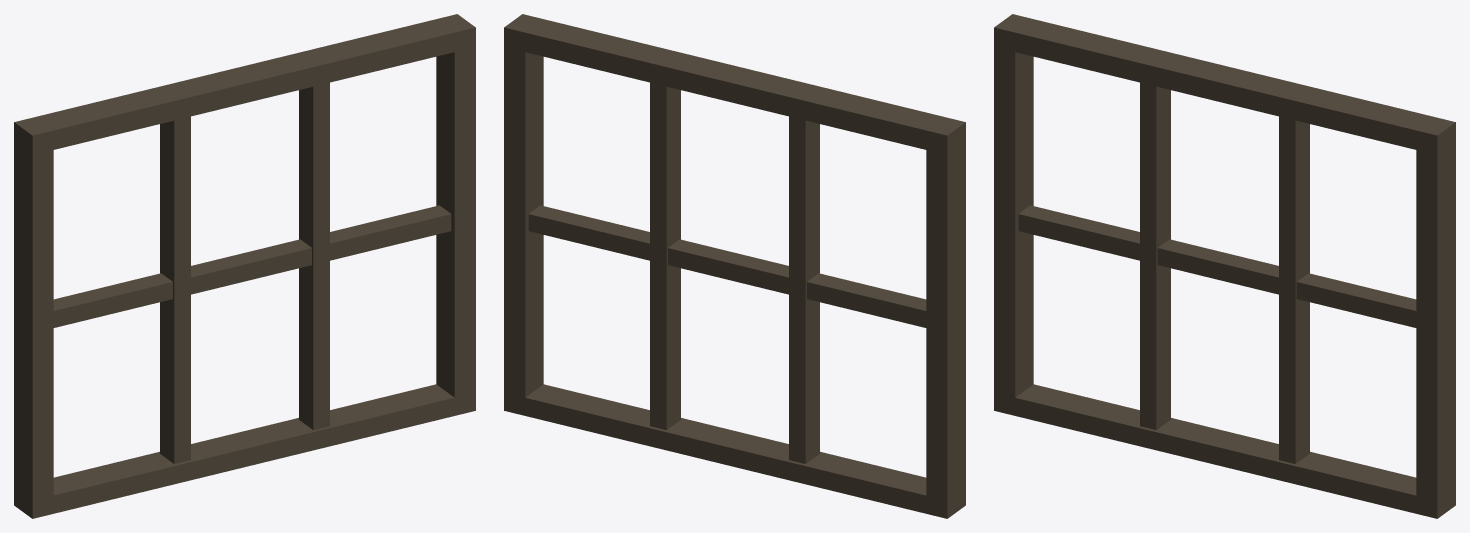
The model's file is SM_Bld_Wall_Window_Bottom_01.obj.
The picture shows the model from 3 angles, left to right: view 1: azimuth 30°, elevation 25°; view 2: azimuth 150°, elevation 25°; view 3: azimuth 330°, elevation 25°; orthographic projection.
Parts seen in each view (by area): view 1: SM_Bld_Wall_Window_Bottom_01_0; view 2: SM_Bld_Wall_Window_Bottom_01_0; view 3: SM_Bld_Wall_Window_Bottom_01_0.
Boxes of the visible parts, left/top/right/bottom form: SM_Bld_Wall_Window_Bottom_01_0: left=14, top=14, right=475, bottom=518; SM_Bld_Wall_Window_Bottom_01_0: left=504, top=14, right=965, bottom=518; SM_Bld_Wall_Window_Bottom_01_0: left=994, top=14, right=1455, bottom=518.
Size of the model in its own units: 1.16 by 0.956 by 0.0832.
1 material, 1 textured.
